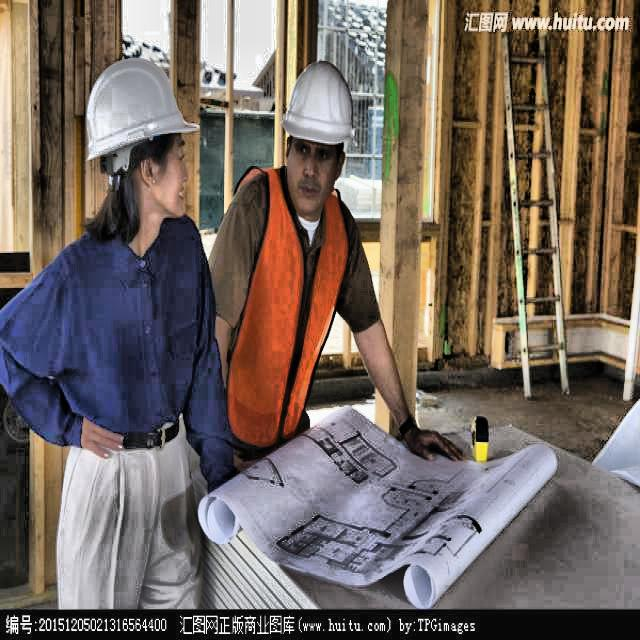person: (41, 44, 246, 596), (226, 55, 391, 445)
